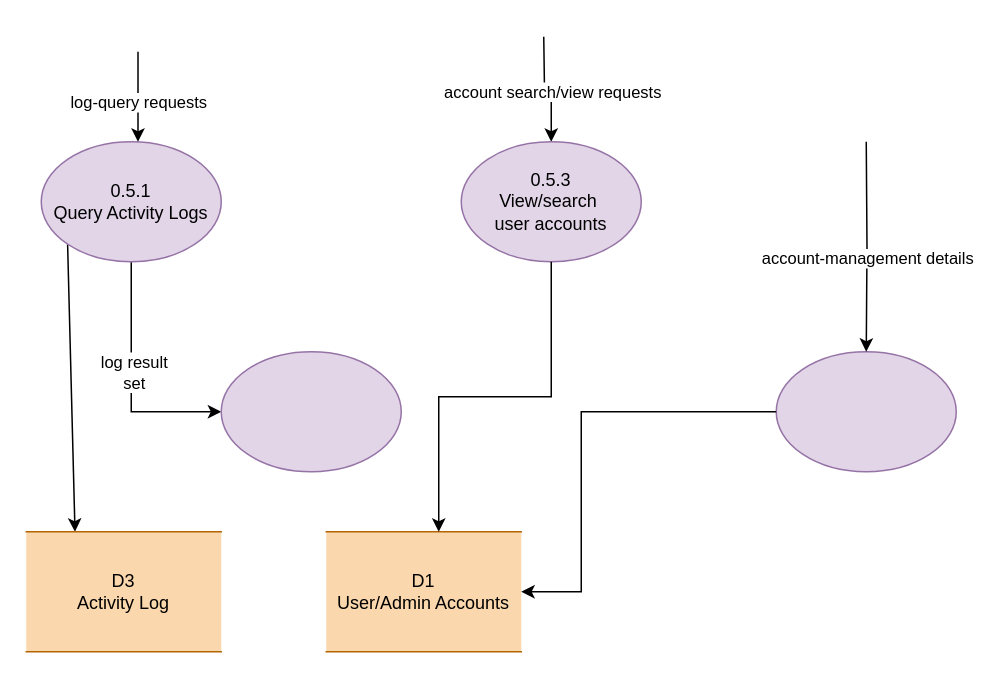
This 999x678 diagram has some shape labels left out. Each missing label, with the box of its shape:
0.5.2 Display Log results: (220, 350, 401, 472)
0.5.4 Update account status: (775, 350, 956, 472)
